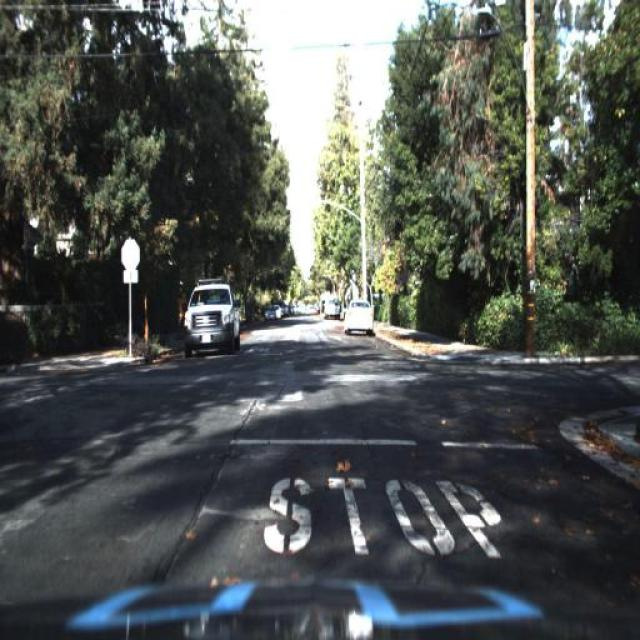car: (180, 266, 244, 358), (340, 294, 376, 340), (341, 295, 371, 335), (321, 287, 343, 319), (260, 301, 278, 327)
